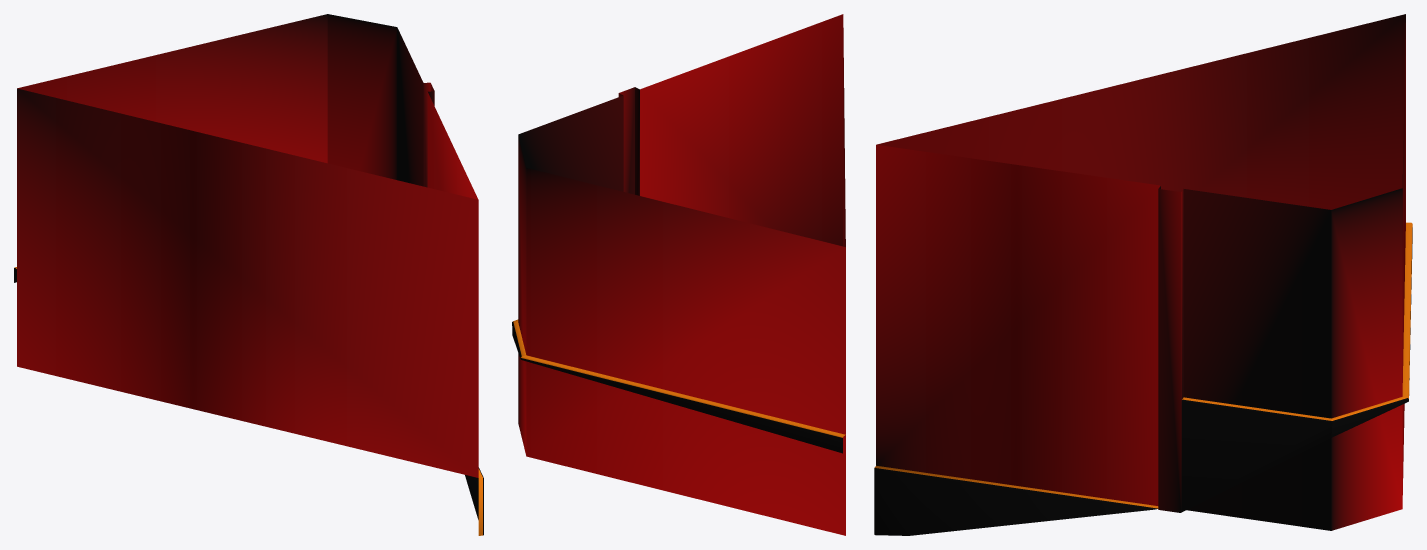
File: House_Corner1_collisionSetup.fbx
3 views of the same model, side by side, from view 1: azimuth 30°, elevation 25°; view 2: azimuth 150°, elevation 25°; view 3: azimuth 270°, elevation 25° (orthographic). The views are drawn at different scales.
Parts seen in each view (by area): view 1: collisionConvex, collisionConvex.215, collisionConvex.217; view 2: collisionConvex, collisionConvex.218, collisionConvex.217; view 3: collisionConvex, collisionConvex.216, collisionConvex.215, collisionConvex.217, collisionConvex.218.
Part boxes in pixels (x1,y1,x2,y2): collisionConvex: [17, 14, 478, 477]; collisionConvex.215: [465, 467, 483, 535]; collisionConvex.217: [423, 82, 434, 187]; collisionConvex: [518, 14, 845, 535]; collisionConvex.218: [520, 355, 845, 453]; collisionConvex.217: [618, 87, 639, 195]; collisionConvex: [876, 14, 1405, 530]; collisionConvex.216: [1181, 396, 1408, 511]; collisionConvex.215: [874, 465, 1158, 535]; collisionConvex.217: [1158, 186, 1183, 512]; collisionConvex.218: [1402, 222, 1412, 398].
Bounding box in the file's own units: 1435 × 1303 × 1639.
